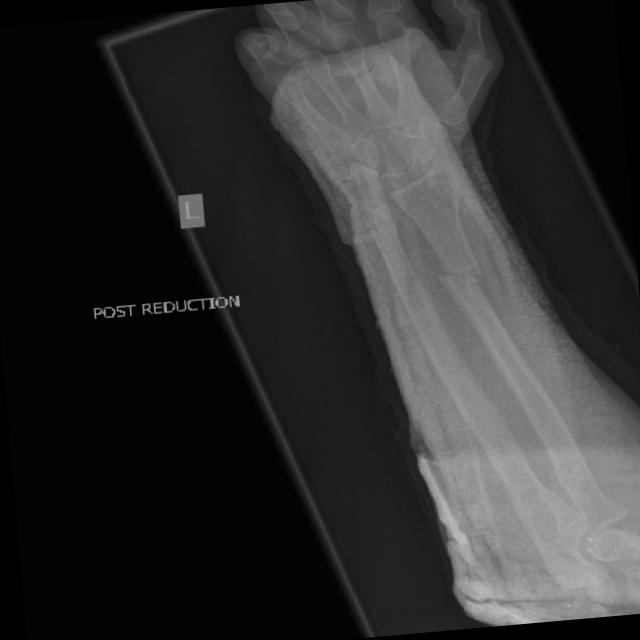forearm fracture: (405, 206, 532, 345)
